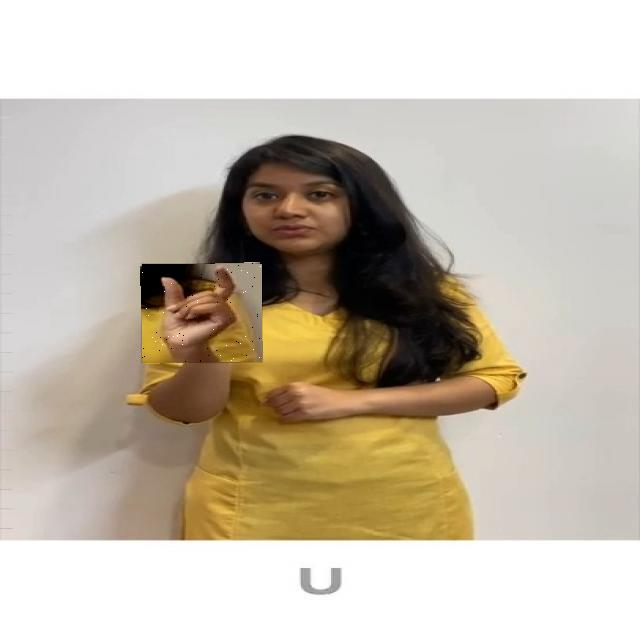U: (141, 263, 263, 363)
